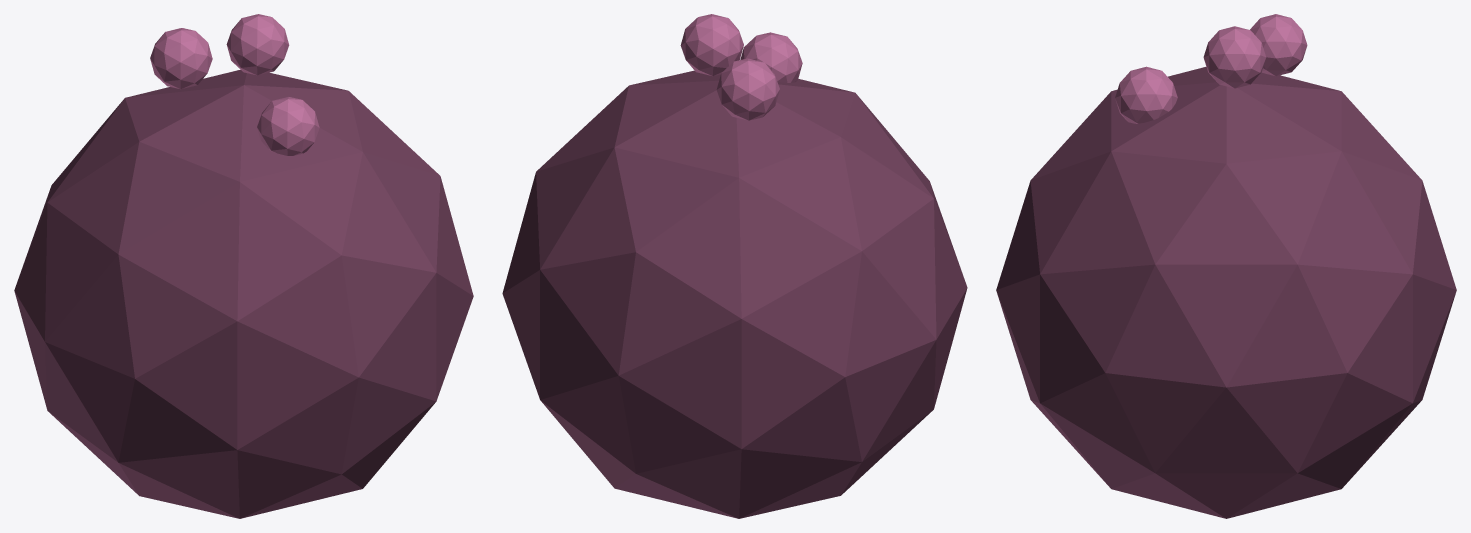
The model's file is nightmare_horror.glb.
The picture shows the model from 3 angles, left to right: view 1: azimuth 30°, elevation 25°; view 2: azimuth 150°, elevation 25°; view 3: azimuth 270°, elevation 25°; orthographic projection.
Visible parts, largest first — view 1: geometry_0; view 2: geometry_0; view 3: geometry_0.
Part boxes in pixels (x1,y1,x2,y2): geometry_0: [14, 14, 473, 518]; geometry_0: [502, 14, 967, 518]; geometry_0: [996, 14, 1456, 518].
Size of the model in its own units: 0.88 by 1.01 by 0.88.
